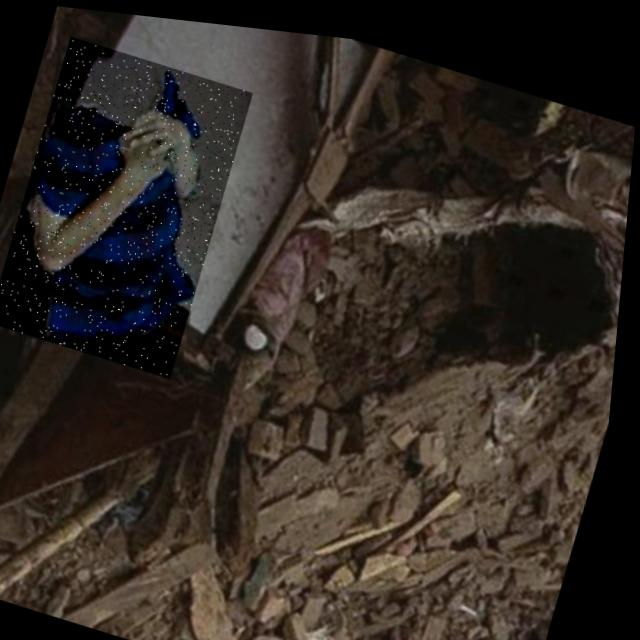Person in Rubble: (0, 29, 256, 380)
